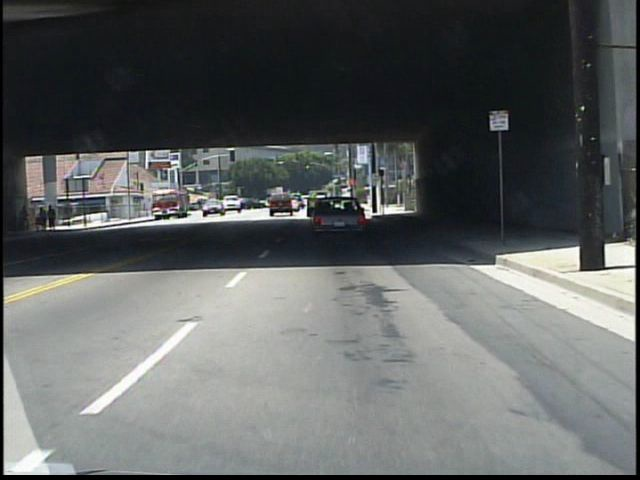person: (33, 204, 47, 233), (19, 204, 30, 235), (46, 204, 57, 233)
